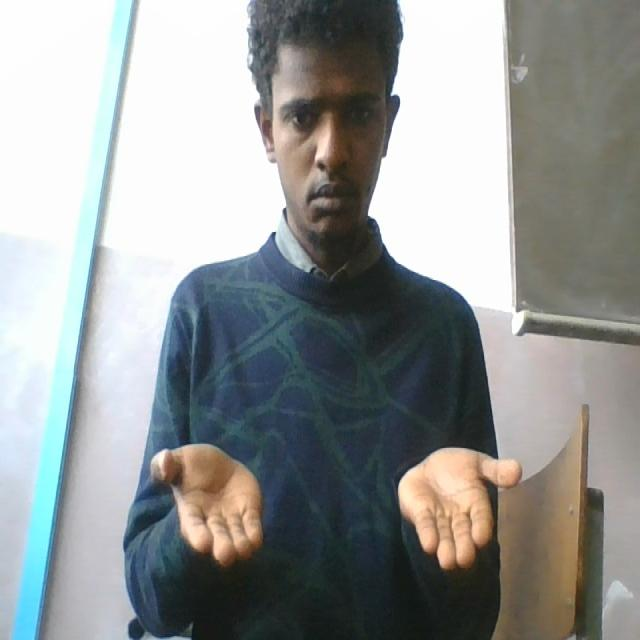mestet: (149, 440, 524, 577)
